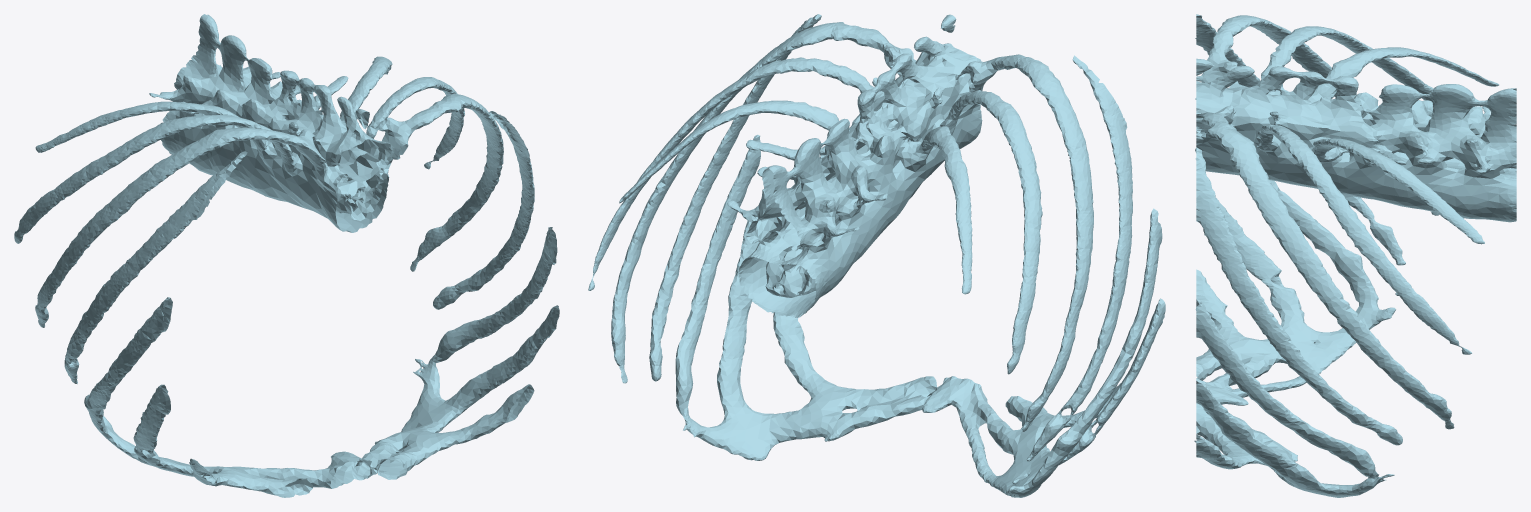
The model's file is bone.obj.
The picture shows the model from 3 angles, left to right: view 1: azimuth 30°, elevation 25°; view 2: azimuth 150°, elevation 25°; view 3: azimuth 270°, elevation 25°; orthographic projection. The views are drawn at different scales.
Parts seen in each view (by area): view 1: grp1; view 2: grp1; view 3: grp1.
Boxes of the visible parts, bbox=[...] form: grp1: bbox=[14, 14, 559, 497]; grp1: bbox=[588, 14, 1165, 497]; grp1: bbox=[1194, 14, 1516, 497].
Size of the model in its own units: 267 by 238 by 181.
